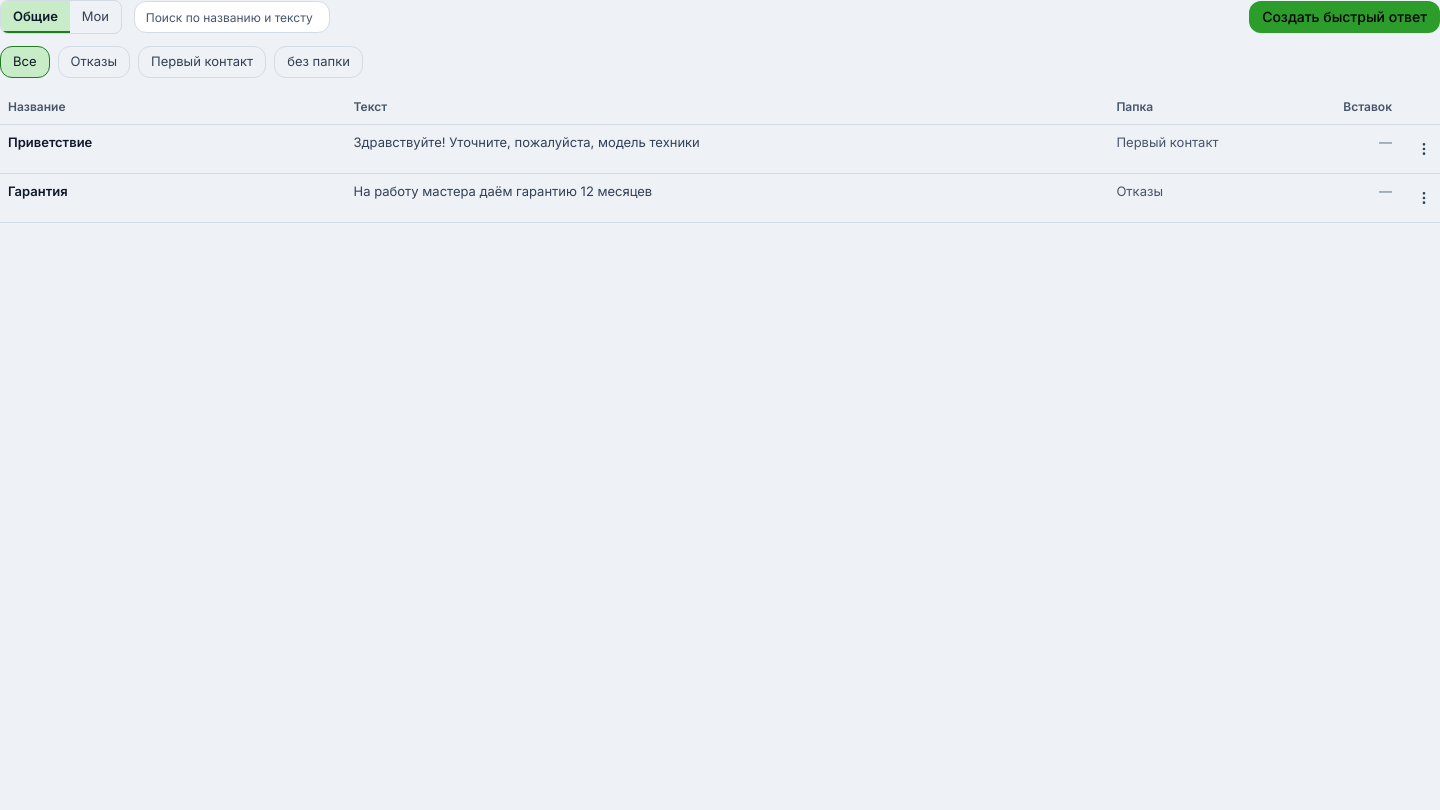
Test: Быстрые ответы — вставка переменной и удаление › в нетронутое поле переменная дописывается в конец
The image size is (1440, 810).
Expected: the table is shown, [0,90,1439,223]
Click the button named "Действия: Приветствие": point(1424, 149) [1408,133,1439,165]
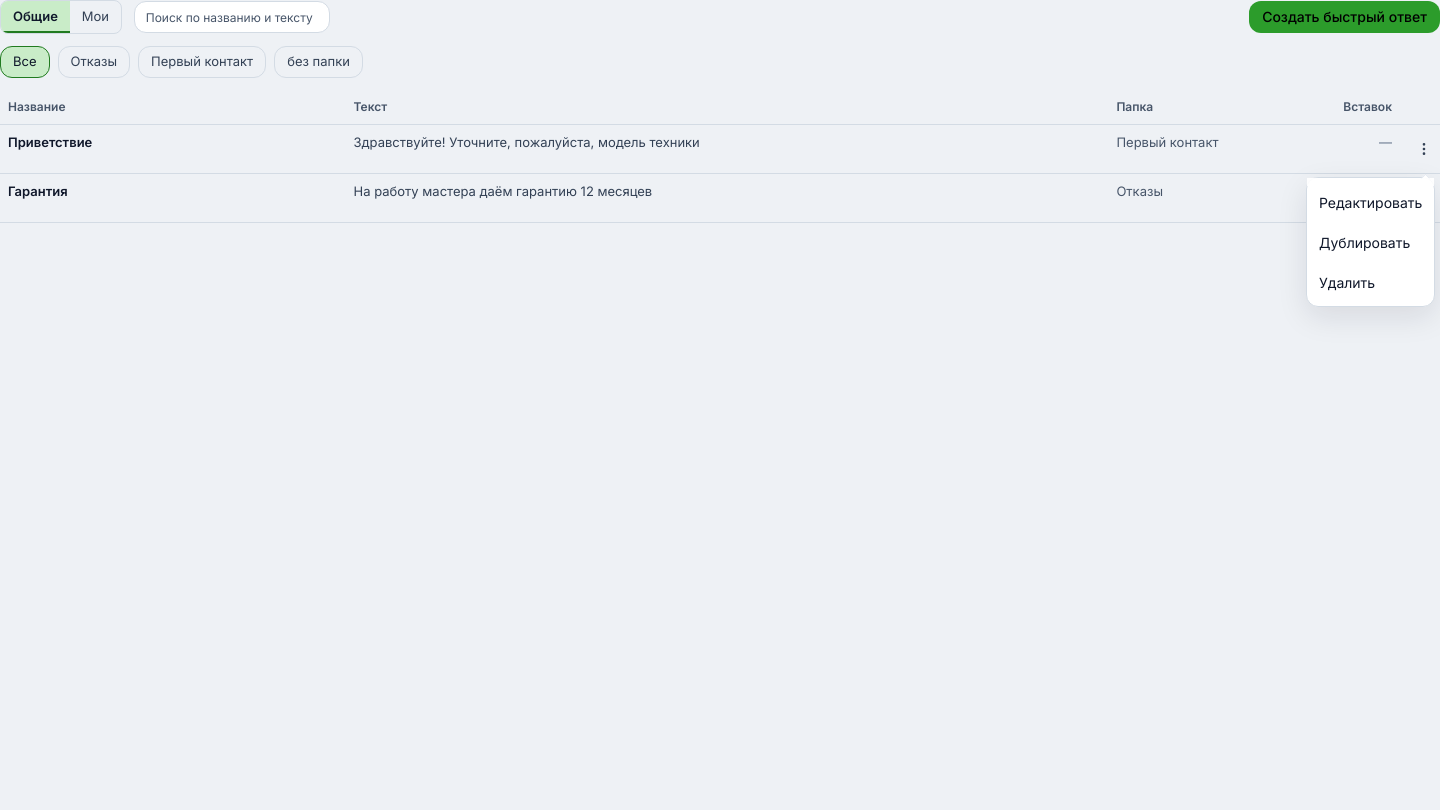
Click the menu item "Редактировать": point(1370, 202) [1311,182,1430,222]
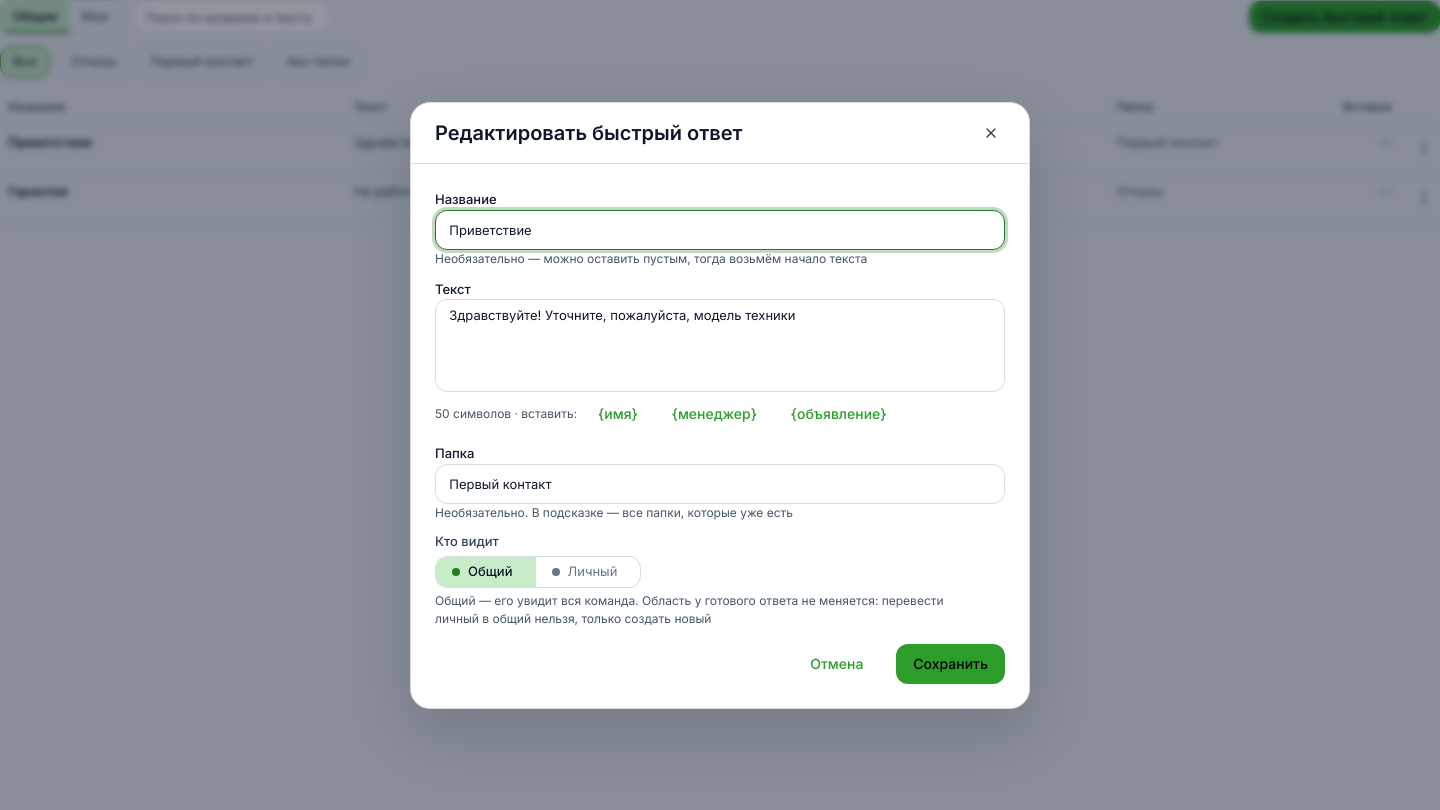
Click the button with aria-label "Вставить переменную {имя}": point(618, 414) [585,398,651,430]
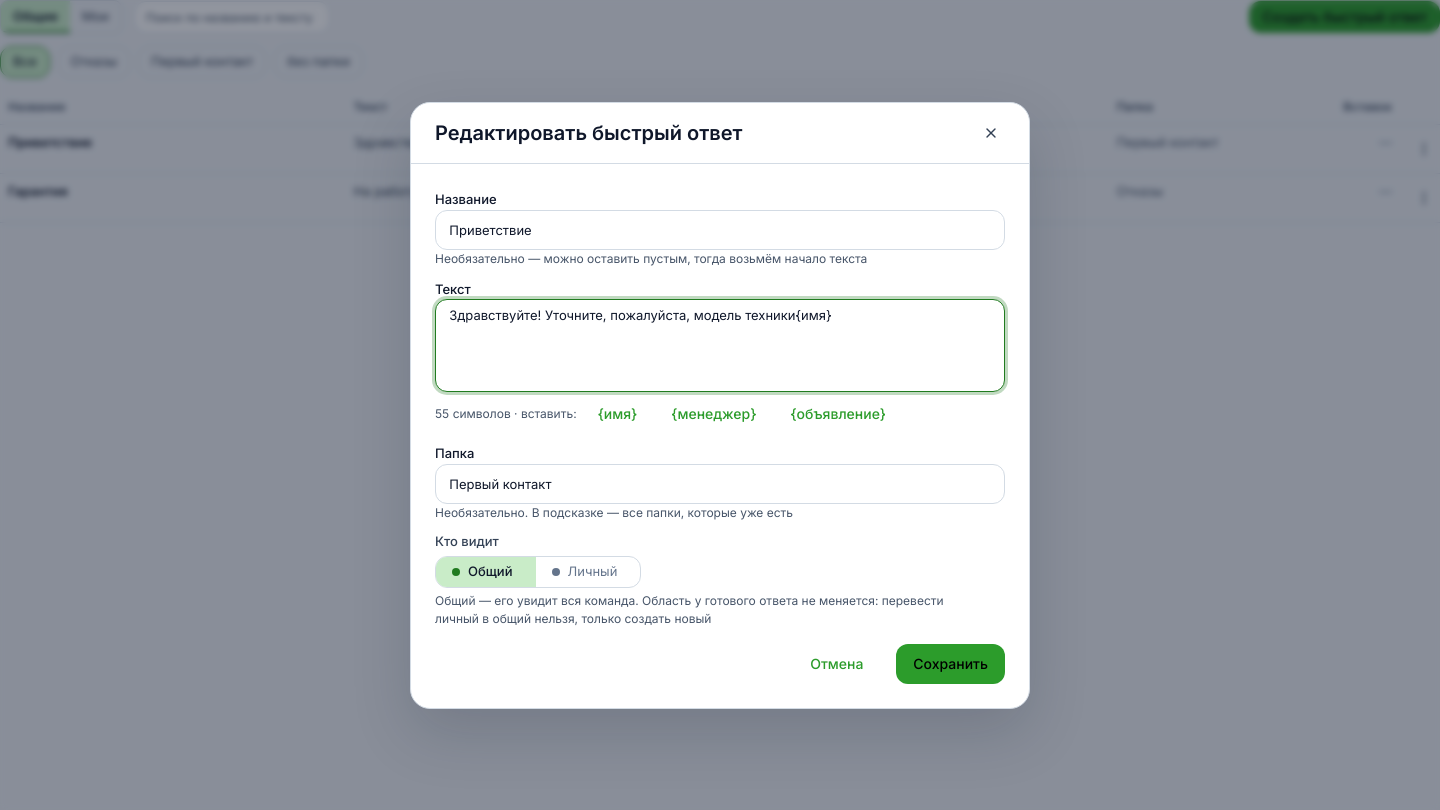
Now the text box labelled "Текст" holds "Здравствуйте! Уточните, пожалуйста, модель техники{имя}", box [435,299,1005,392]
